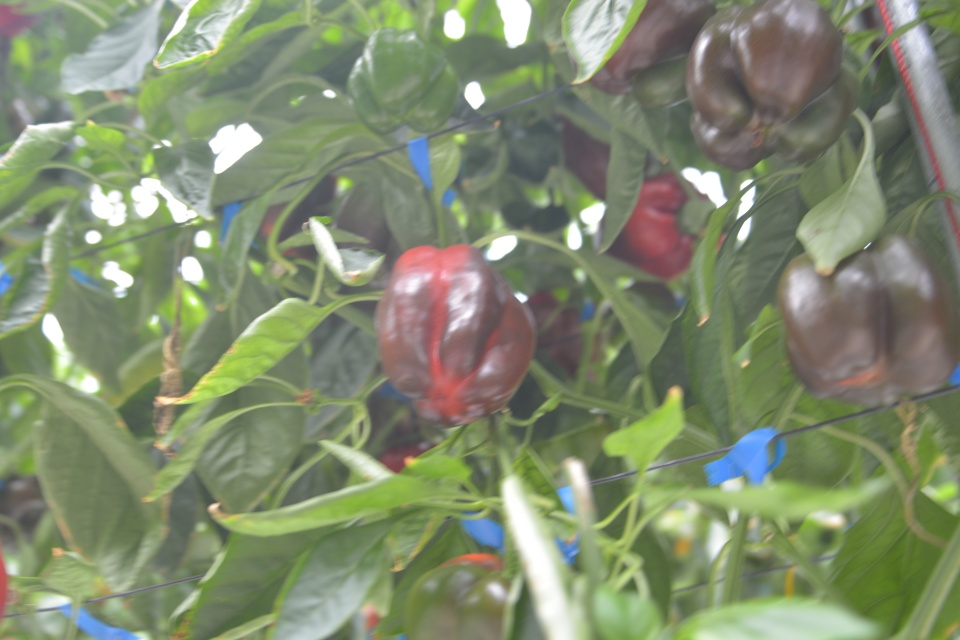fruit: (776, 234, 960, 407), (372, 241, 536, 427), (699, 5, 874, 176), (564, 0, 713, 97), (597, 168, 725, 279), (344, 25, 459, 138), (401, 549, 521, 640), (562, 112, 651, 199), (521, 288, 600, 380), (255, 174, 338, 260), (9, 93, 76, 181), (0, 473, 48, 548)
